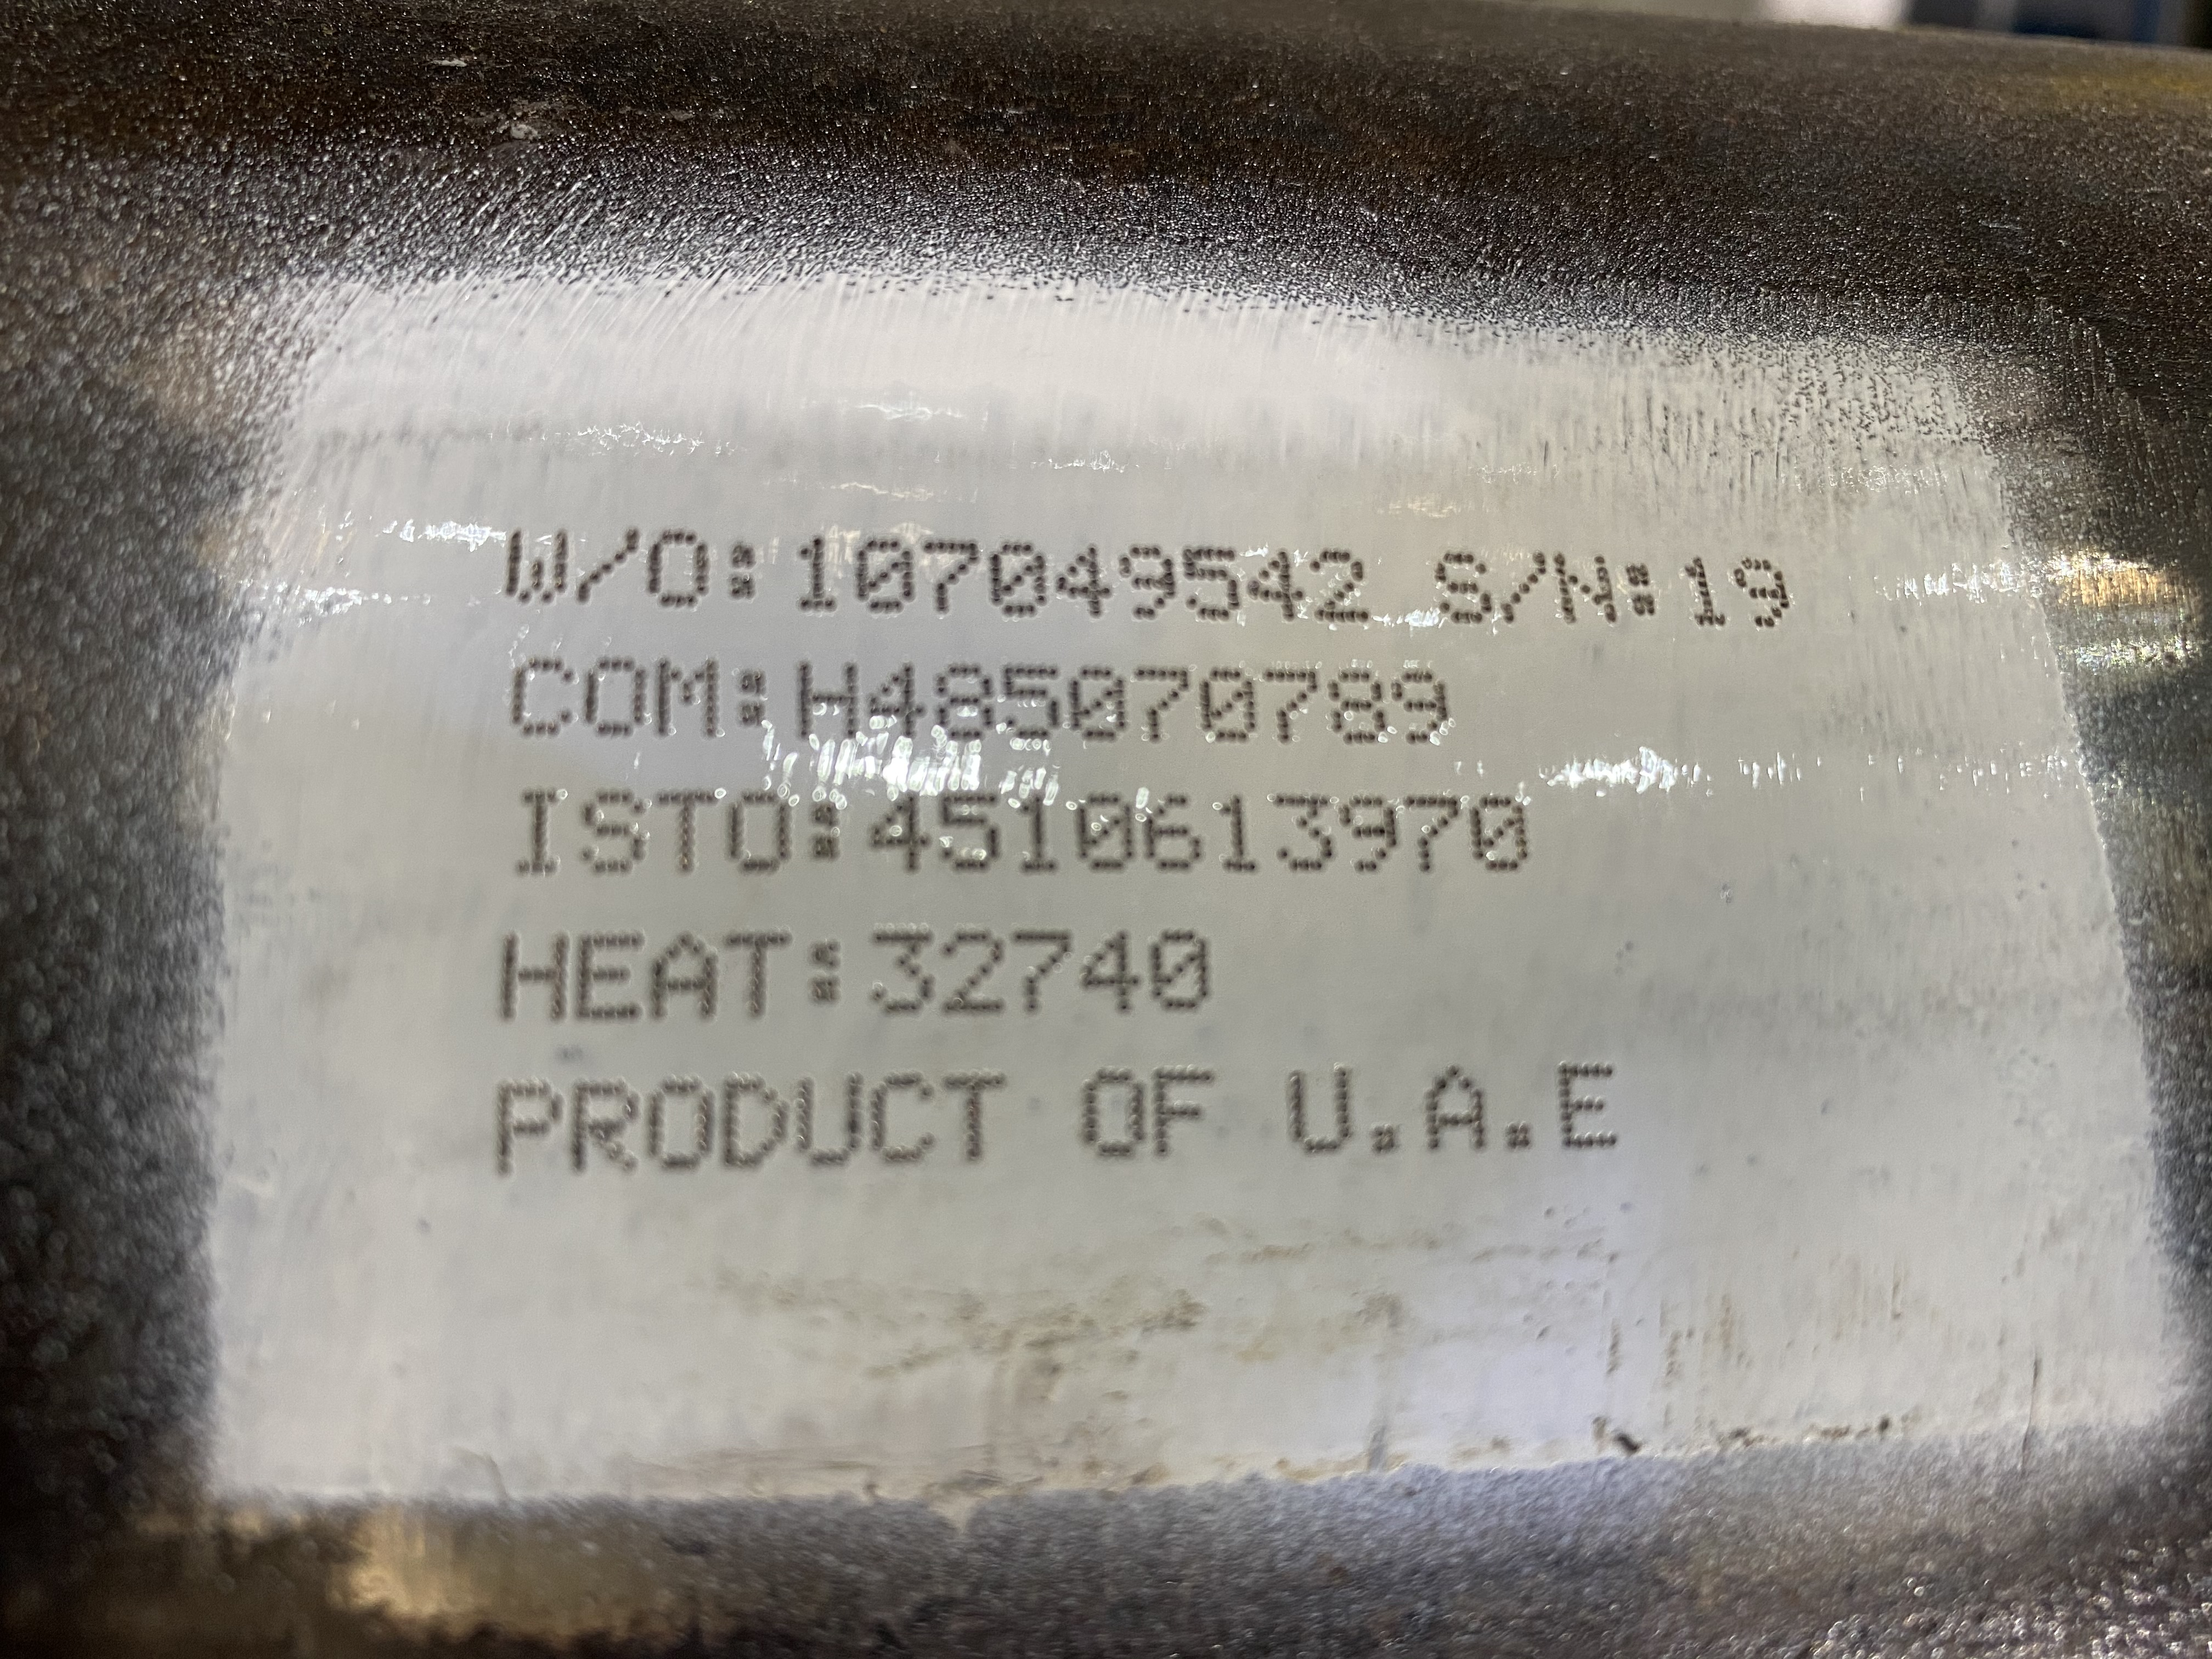character: (1540, 1047, 1639, 1175), (563, 1063, 651, 1185), (718, 908, 799, 1037), (1130, 920, 1235, 1019), (1270, 1054, 1364, 1162), (859, 1046, 939, 1171), (718, 1066, 794, 1190), (1406, 1049, 1489, 1162), (779, 648, 867, 755), (481, 1075, 566, 1185), (643, 924, 726, 1032), (930, 913, 1010, 1025), (791, 1066, 862, 1190), (493, 920, 570, 1032), (852, 786, 934, 889), (639, 1066, 716, 1176), (721, 779, 801, 884), (1141, 1061, 1219, 1168), (566, 932, 650, 1032), (1073, 1061, 1148, 1171), (568, 782, 648, 882), (934, 781, 1007, 889), (1066, 917, 1143, 1019), (939, 1063, 1014, 1166), (907, 532, 988, 626), (639, 521, 712, 624), (648, 781, 721, 884), (495, 521, 578, 610), (859, 922, 935, 1018), (1071, 784, 1143, 887), (1467, 779, 1538, 882), (648, 650, 721, 749), (918, 653, 998, 744), (1005, 911, 1076, 1012), (1338, 775, 1406, 880), (1543, 549, 1625, 633), (1141, 786, 1212, 882), (1266, 784, 1338, 880), (505, 652, 580, 742), (578, 652, 653, 742), (1400, 782, 1468, 882), (1308, 538, 1379, 633), (1108, 528, 1176, 626), (1055, 662, 1134, 746), (505, 777, 568, 880), (780, 525, 850, 617), (571, 519, 643, 608), (1129, 659, 1197, 751), (1244, 538, 1310, 633), (1176, 535, 1244, 626), (986, 532, 1050, 626), (1665, 554, 1738, 636), (1205, 782, 1266, 880), (1317, 669, 1390, 749), (1425, 545, 1496, 627), (1049, 533, 1113, 624), (1007, 781, 1064, 882), (1191, 660, 1259, 746), (1393, 660, 1454, 753), (998, 660, 1064, 744), (867, 659, 925, 755), (850, 532, 914, 617), (1737, 538, 1791, 638), (1258, 669, 1322, 749), (1496, 549, 1554, 631)
